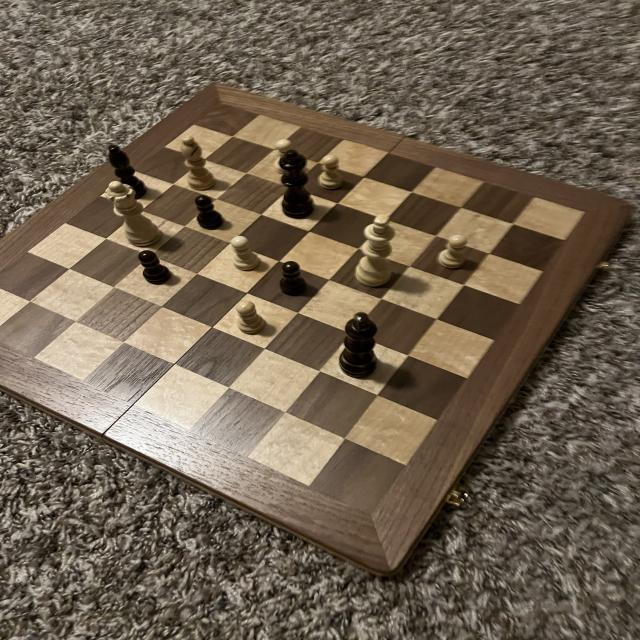bishop: (103, 142, 150, 200)
black-bishop: (338, 313, 382, 383)
black-knight: (134, 248, 179, 287), (275, 258, 311, 300), (192, 194, 226, 232)
black-pawn: (267, 147, 321, 220)
black-rook: (177, 135, 217, 191)
white-bishop: (351, 211, 402, 290)
white-knight: (228, 232, 265, 276), (435, 233, 472, 271), (315, 151, 345, 192), (233, 299, 265, 337), (270, 138, 300, 174)
white-pawn: (102, 179, 164, 250)
